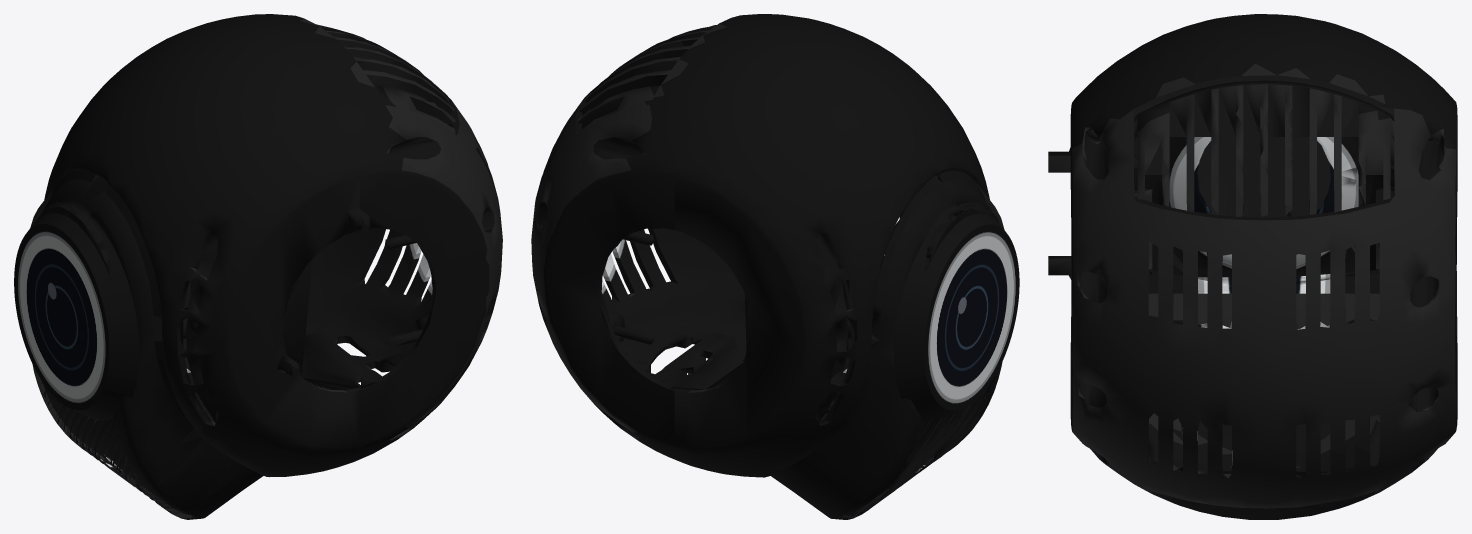
File: camera_link__cgo3_camera_visual.glb
3 renders of one model, left to right at view 1: azimuth 30°, elevation 25°; view 2: azimuth 150°, elevation 25°; view 3: azimuth 270°, elevation 25°, orthographic. The views are drawn at different scales.
Parts seen in each view (by area): view 1: cgo3_camera_remeshed_v1; view 2: cgo3_camera_remeshed_v1; view 3: cgo3_camera_remeshed_v1.
Part boxes in pixels (x1,y1,x2,y2): cgo3_camera_remeshed_v1: (14, 14, 502, 519); cgo3_camera_remeshed_v1: (531, 14, 1019, 519); cgo3_camera_remeshed_v1: (1048, 14, 1457, 519).
Size of the model in its own units: 0.0695 by 0.0723 by 0.055.
2 materials, 1 textured.
